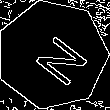N_NW: (19, 24, 85, 86)
